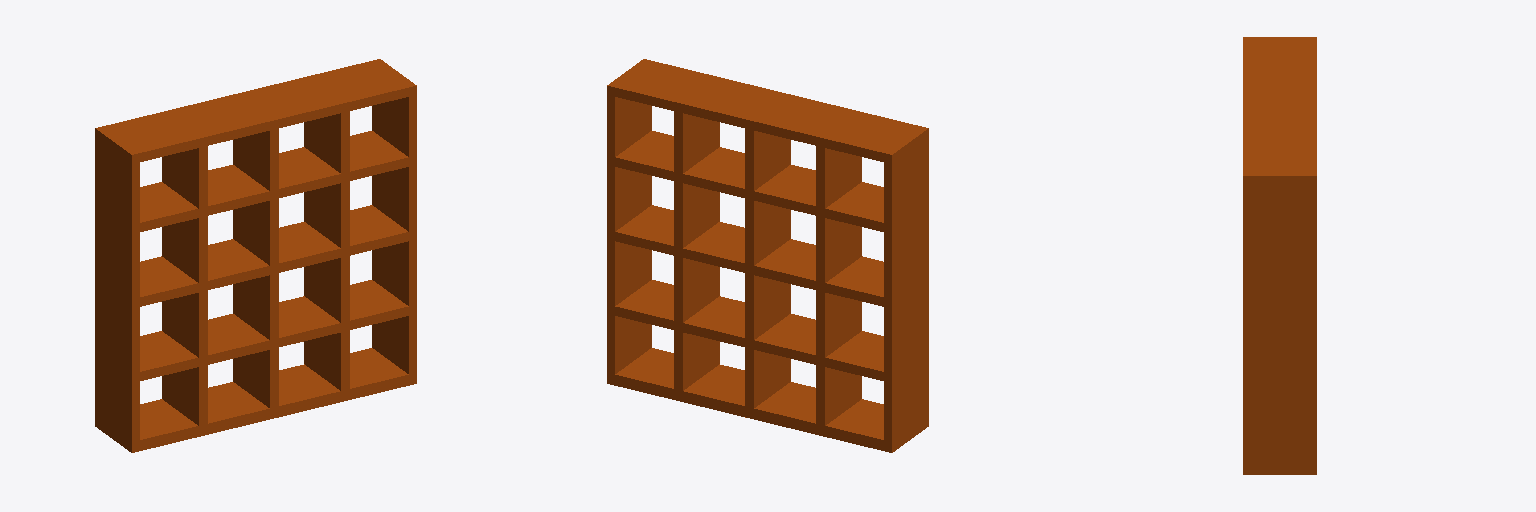
Rendered from Biblioteca.obj.
3 renders of one model, left to right at view 1: azimuth 30°, elevation 25°; view 2: azimuth 150°, elevation 25°; view 3: azimuth 270°, elevation 25°, orthographic.
Parts seen in each view (by area): view 1: Plane; view 2: Plane; view 3: Plane.
Part boxes in pixels (x1,y1,x2,y2): Plane: (95, 59, 416, 452); Plane: (607, 59, 928, 452); Plane: (1243, 37, 1316, 474).
Size of the model in its own units: 2 by 2 by 0.4459.